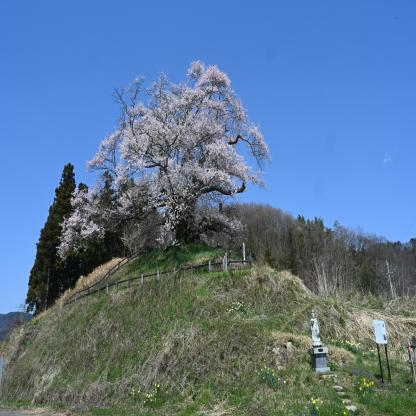EdohiganSakura: (55, 55, 273, 280)
